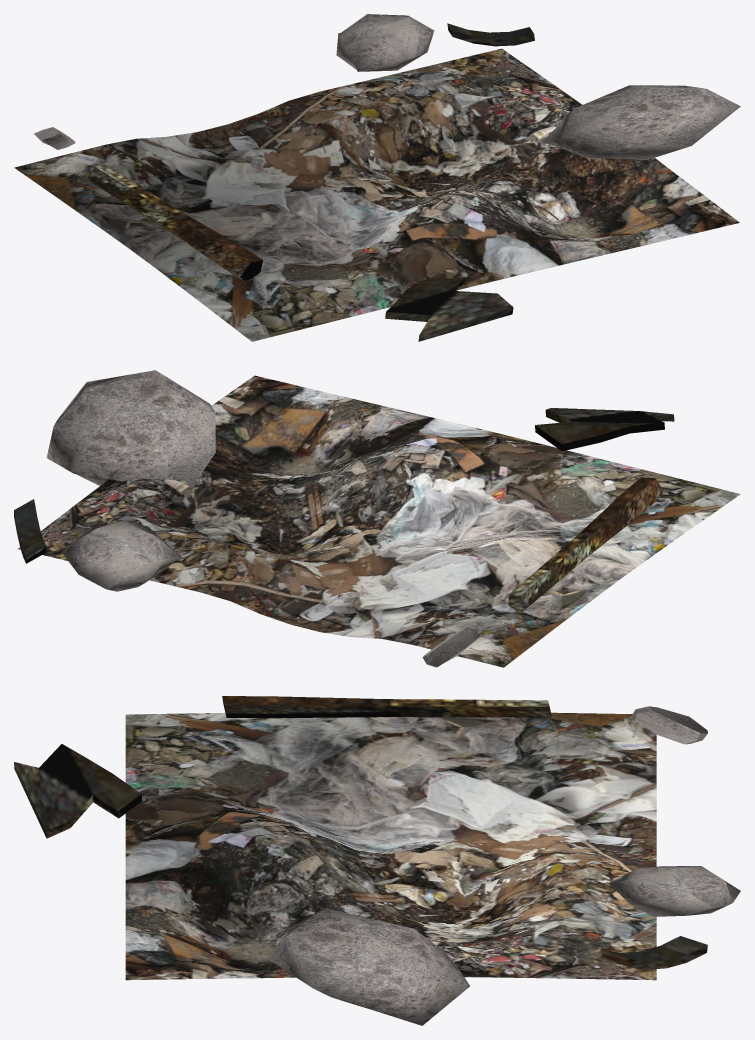
Rendered from Trash2_taken.FBX.
3 views of the same model, one above another, from view 1: azimuth 30°, elevation 25°; view 2: azimuth 150°, elevation 25°; view 3: azimuth 270°, elevation 25° (orthographic). The views are drawn at different scales.
Visible parts, largest first — view 1: Rock009, rocks001, metal001; view 2: Rock009, rocks001, metal001; view 3: Rock009, rocks001, metal001.
Boxes of the visible parts, x1,y1,x2,y2 form: Rock009: (14,48,739,341); rocks001: (34,14,740,159); metal001: (87,23,534,341); Rock009: (18,375,740,667); rocks001: (46,370,479,667); metal001: (14,408,674,613); Rock009: (125,712,656,980); rocks001: (268,706,740,1025); metal001: (14,696,707,969).
Bounding box in the file's own units: 13.1 × 1.72 × 12.86.
Materials: 3 (3 with a texture image).
